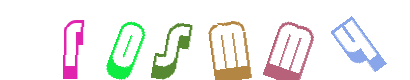4: (249, 0, 329, 80)
M: (162, 0, 242, 80), (217, 0, 297, 80)
O: (82, 0, 162, 80)
R: (32, 0, 112, 80)
S: (130, 0, 210, 80)
